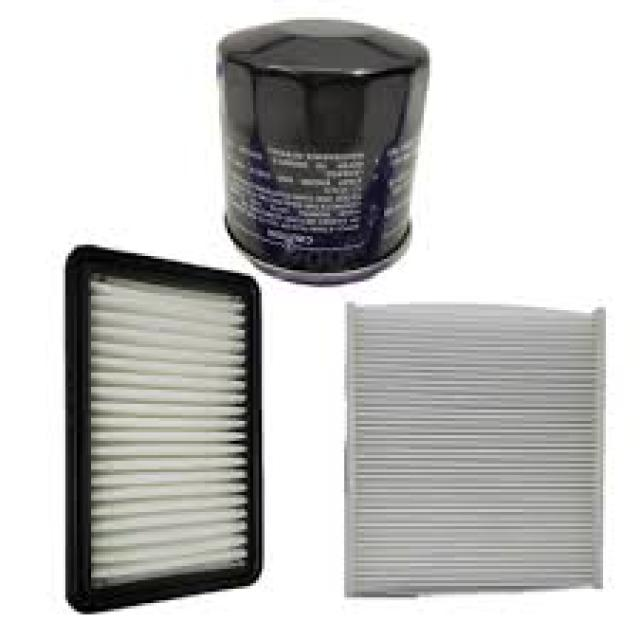air_filter: (335, 295, 611, 602), (66, 242, 266, 619)
oil_filter: (202, 12, 434, 285)
